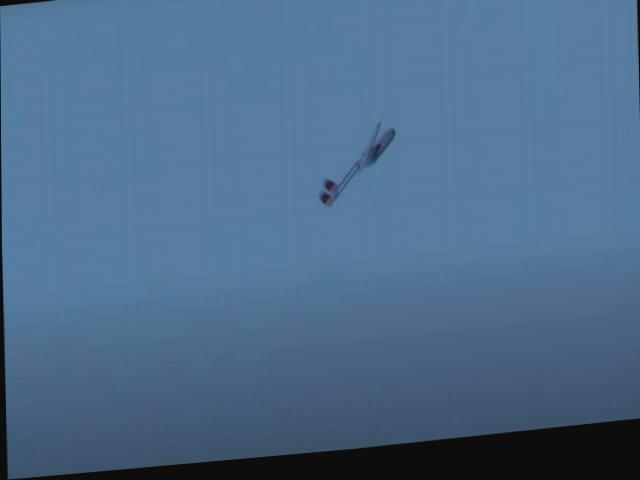iha: (318, 122, 402, 216)
